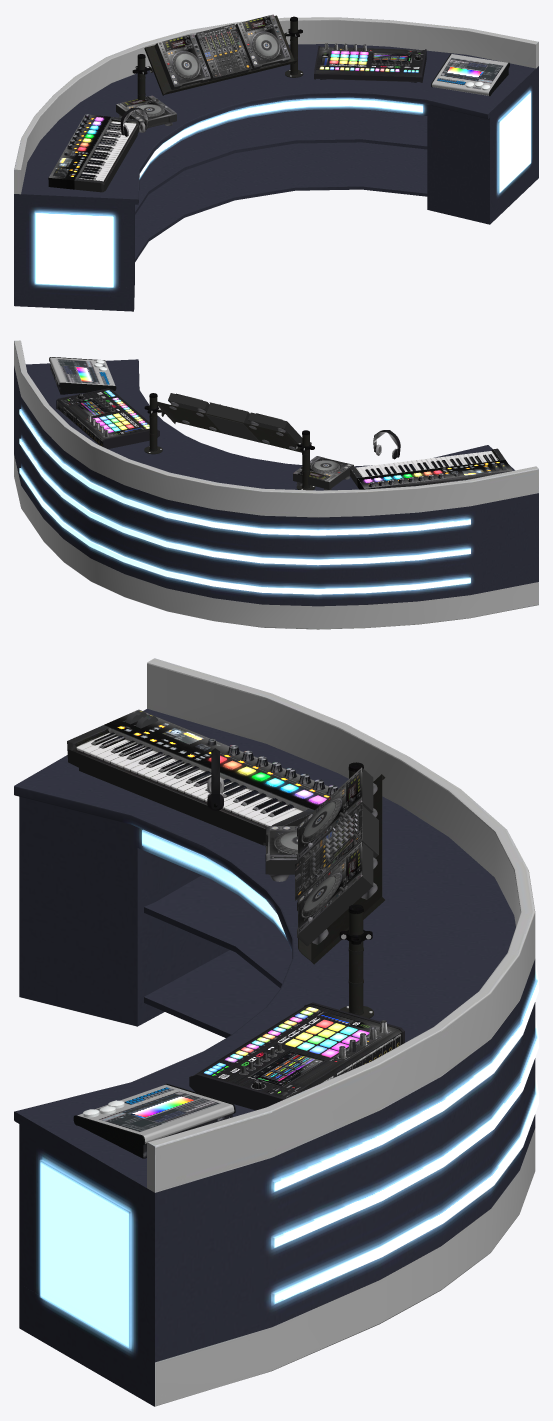
Rendered from dj_roomv01-2 2.glb.
The picture shows the model from 3 angles, top to bottom: view 1: azimuth 30°, elevation 25°; view 2: azimuth 150°, elevation 25°; view 3: azimuth 270°, elevation 25°; orthographic projection. The views are drawn at different scales.
Visible parts, largest first — view 1: DJTable01_10, DJMidiKeyboard01_9, DJControl02_7, DMXController01_8, DJControlHolder01_14, DJControl01_2_12, DJControl01_1_13, DJControl01_1 (1)_15, DJControl1_2, Headphones01_11; view 2: DJTable01_10, DJMidiKeyboard01_9, DJControl02_7, DJControlHolder01_14, DMXController01_8, DJControl01_2_12, DJControl1_2, DJControl01_1_13, DJControl01_1 (1)_15, Headphones01_11; view 3: DJTable01_10, DJMidiKeyboard01_9, DJControl02_7, DMXController01_8, DJControl01_1 (1)_15, DJControlHolder01_14, DJControl01_2_12, DJControl01_1_13, DJControl1_2.
Boxes of the visible parts, box(x1,y1,x2,y2) form: DJTable01_10: box(14, 17, 538, 311); DJMidiKeyboard01_9: box(48, 114, 139, 192); DJControl02_7: box(314, 43, 426, 82); DMXController01_8: box(431, 53, 509, 96); DJControlHolder01_14: box(132, 15, 303, 100); DJControl01_2_12: box(195, 23, 252, 81); DJControl01_1_13: box(154, 34, 210, 90); DJControl01_1 (1)_15: box(235, 14, 290, 70); DJControl1_2: box(116, 95, 176, 132); Headphones01_11: box(120, 107, 147, 136); DJTable01_10: box(14, 340, 538, 629); DJMidiKeyboard01_9: box(349, 448, 512, 489); DJControl02_7: box(56, 388, 159, 448); DJControlHolder01_14: box(144, 393, 315, 490); DMXController01_8: box(49, 357, 116, 394); DJControl01_2_12: box(205, 402, 260, 442); DJControl1_2: box(293, 456, 353, 490); DJControl01_1_13: box(248, 412, 302, 450); DJControl01_1 (1)_15: box(168, 393, 216, 430); Headphones01_11: box(373, 430, 400, 459); DJTable01_10: box(14, 658, 538, 1406); DJMidiKeyboard01_9: box(67, 709, 337, 845); DJControl02_7: box(189, 1002, 404, 1110); DMXController01_8: box(73, 1083, 235, 1158); DJControl01_1 (1)_15: box(297, 842, 377, 945); DJControlHolder01_14: box(298, 762, 385, 1018); DJControl01_2_12: box(294, 803, 378, 900); DJControl01_1_13: box(297, 767, 377, 862); DJControl1_2: box(265, 826, 297, 881).
Size of the model in its own units: 4.4 by 1.41 by 2.
7 materials, 7 textured.
